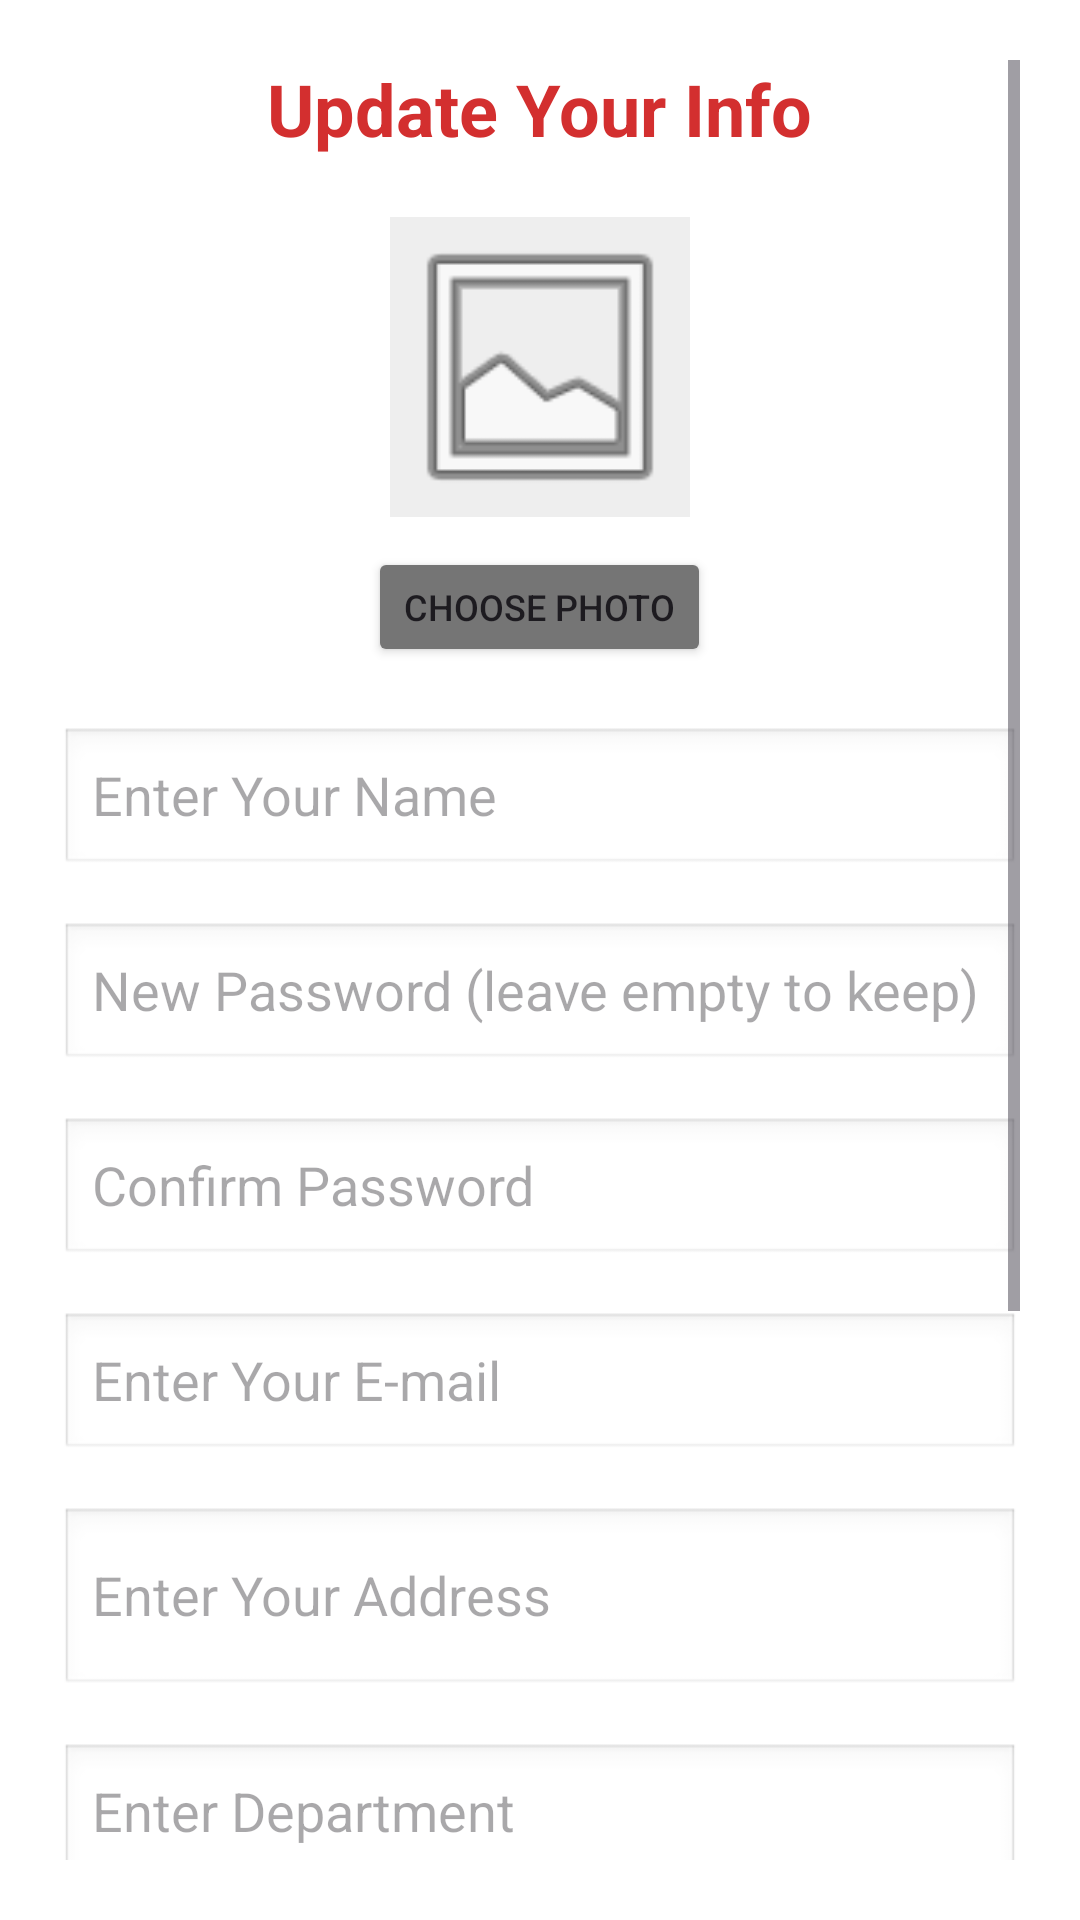

Named icons in this screenshot (1080px×1920px) and their bounding boxes, {"left": x1, "top": y1, "right": x2, "bottom": y2}:
gallery: {"left": 390, "top": 217, "right": 690, "bottom": 517}
